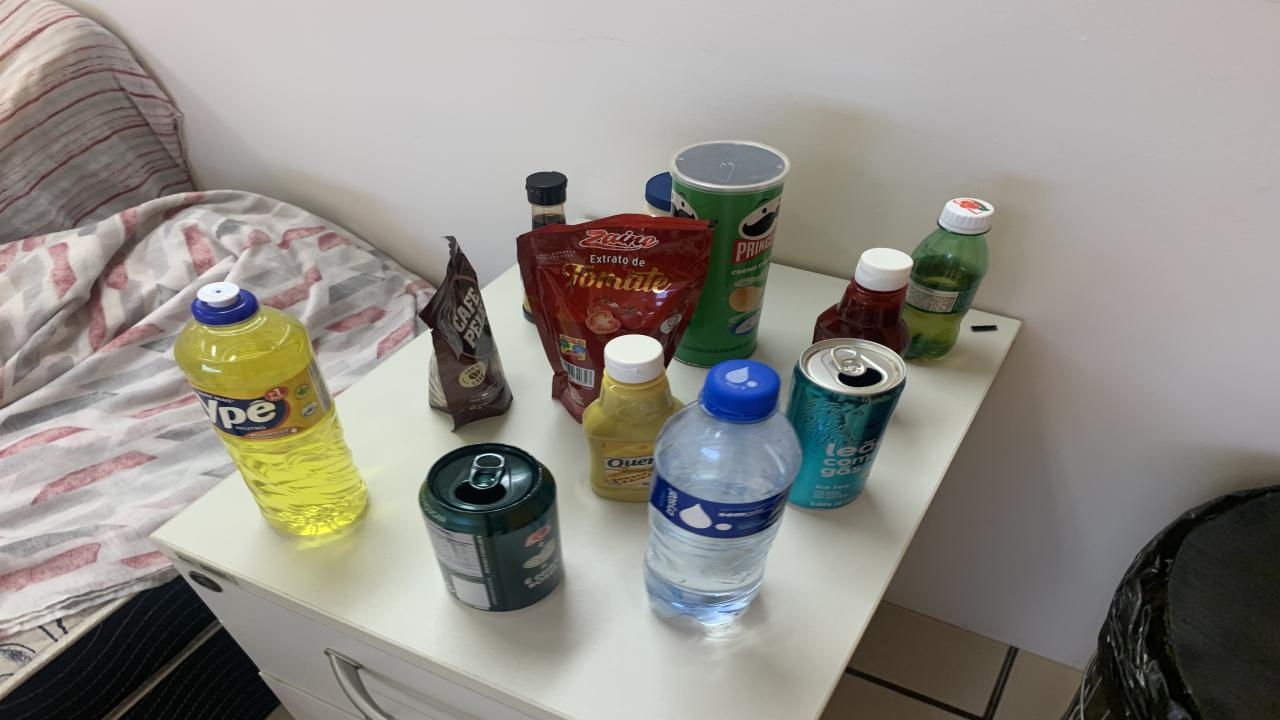Coffee-Pantry_Items: (420, 236, 512, 429)
Detergent-Cleanup_Items: (175, 281, 365, 534)
English_Sauce-Pantry_Items: (525, 172, 568, 229), (522, 298, 535, 322)
Guarana-Drinks: (902, 197, 995, 360)
Guarana_Can-Drinks: (420, 442, 562, 611)
Ketchup-Pantry_Items: (812, 248, 912, 356)
Mayonnaise-Pantry_Items: (645, 172, 672, 216)
Mustard-Pantry_Items: (582, 334, 682, 502)
Pringles-Snacks: (670, 141, 790, 368)
Tea-Drinks: (788, 338, 905, 508)
Tomato_Sauce-Pantry_Items: (518, 214, 712, 420)
Water_Bottle-Drinks: (645, 360, 802, 626)
